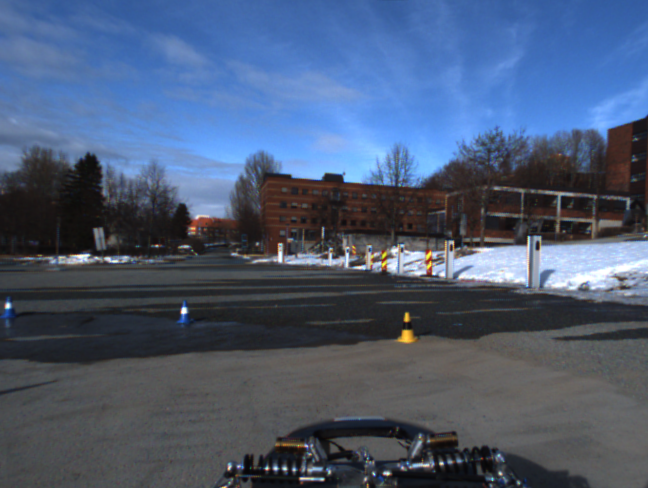cone-small-blue: (176, 301, 194, 325), (1, 296, 17, 318)
cone-small-yellow: (394, 310, 418, 344)
